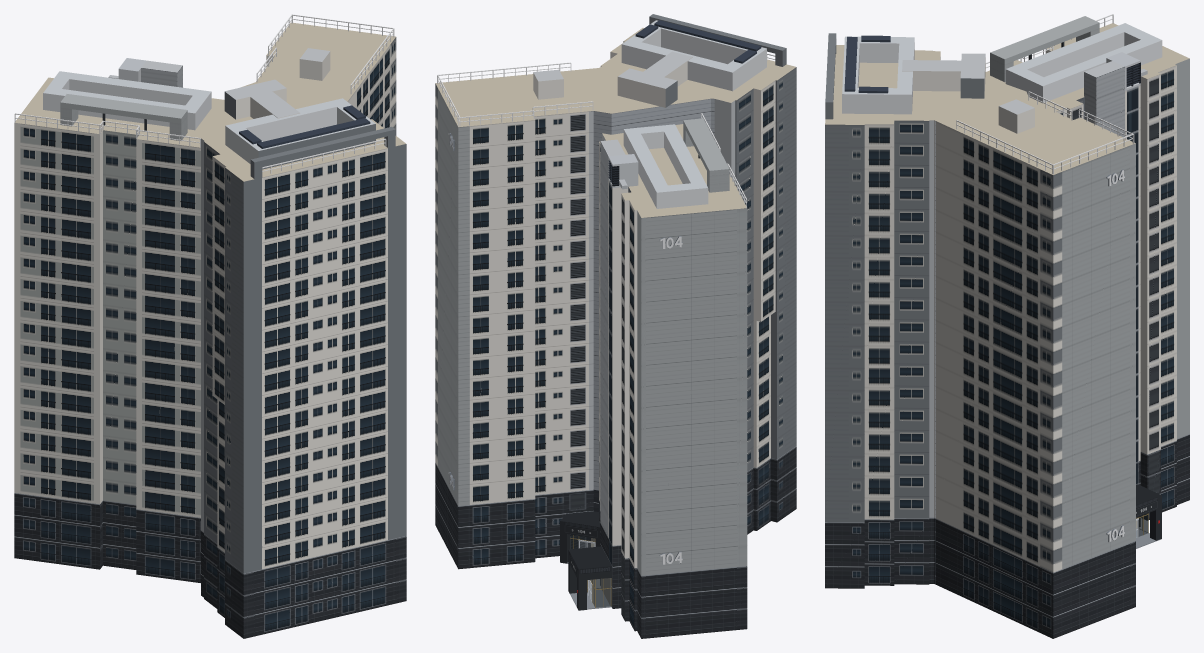
File: place_금파힐104up.glb
3 views of the same model, side by side, from view 1: azimuth 30°, elevation 25°; view 2: azimuth 150°, elevation 25°; view 3: azimuth 270°, elevation 25° (orthographic). The views are drawn at different scales.
Parts seen in each view (by area): view 1: WingC_South_21F, WingA_NW_20F_85sqm, WingB_NE_21F, KumhoParkHills_104_GroundUp; view 2: WingB_NE_21F, WingA_NW_20F_85sqm, WingC_South_21F, KumhoParkHills_104_GroundUp; view 3: WingB_NE_21F, WingC_South_21F, WingA_NW_20F_85sqm, KumhoParkHills_104_GroundUp.
Boxes of the visible parts, x1,y1,x2,y2 form: WingC_South_21F: (201,79,406,638); WingA_NW_20F_85sqm: (14,58,228,582); WingB_NE_21F: (256,14,396,135); KumhoParkHills_104_GroundUp: (212,75,331,137); WingB_NE_21F: (435,62,623,569); WingA_NW_20F_85sqm: (568,113,747,638); WingC_South_21F: (599,14,796,534); KumhoParkHills_104_GroundUp: (560,68,724,563); WingB_NE_21F: (932,90,1135,638); WingC_South_21F: (825,33,985,588); WingA_NW_20F_85sqm: (985,14,1189,548); KumhoParkHills_104_GroundUp: (935,55,1031,584).
Bounding box in the file's own units: 44.88 × 58.27 × 39.68.
Materials: 138 (79 with a texture image).
